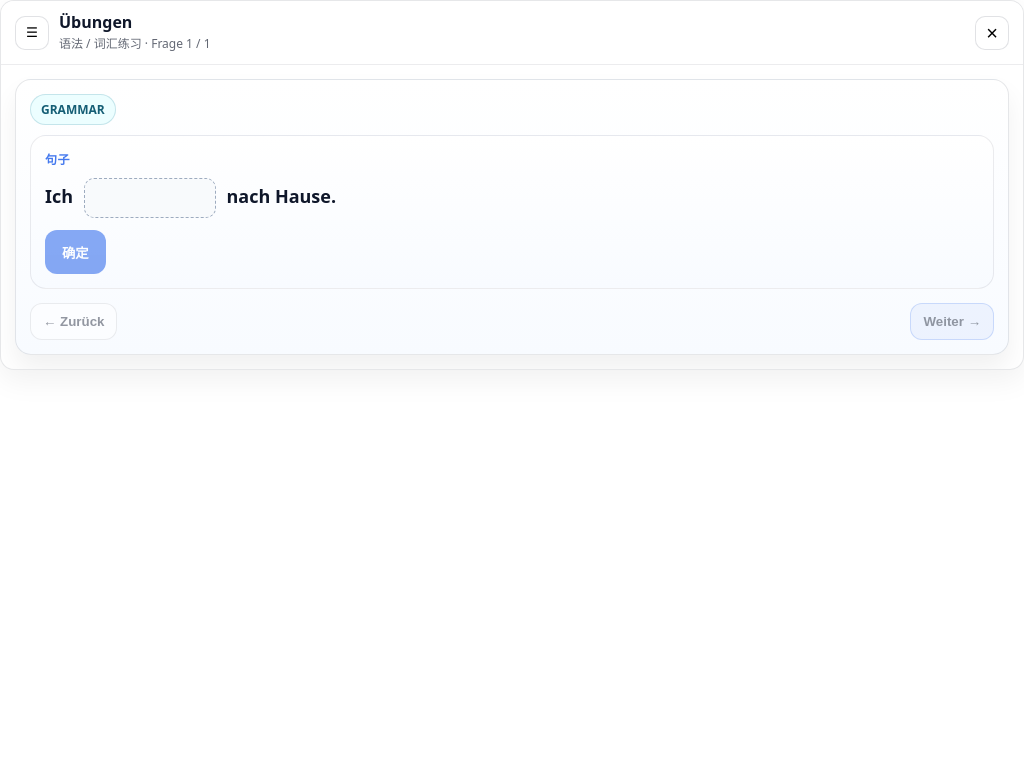
Test: ExercisePanel dictionary regions › keeps the correct answer and explanation unavailable until confirmation
The width and height of the screenshot is (1024, 768).
Expected: the text "Ich" is shown, [45,184,78,208]
Click the button with class "exPanelGrammarBlank": x=150, y=198 [84,178,216,218]
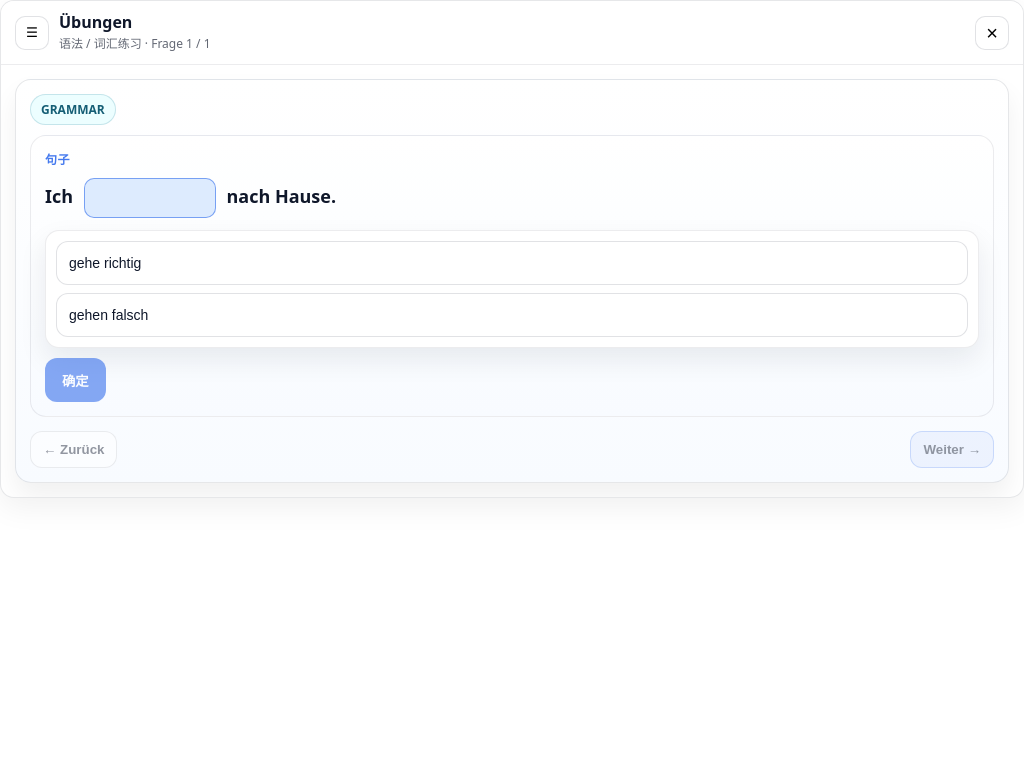
Click the list item "gehen falsch": x=109, y=315 [56,293,968,337]
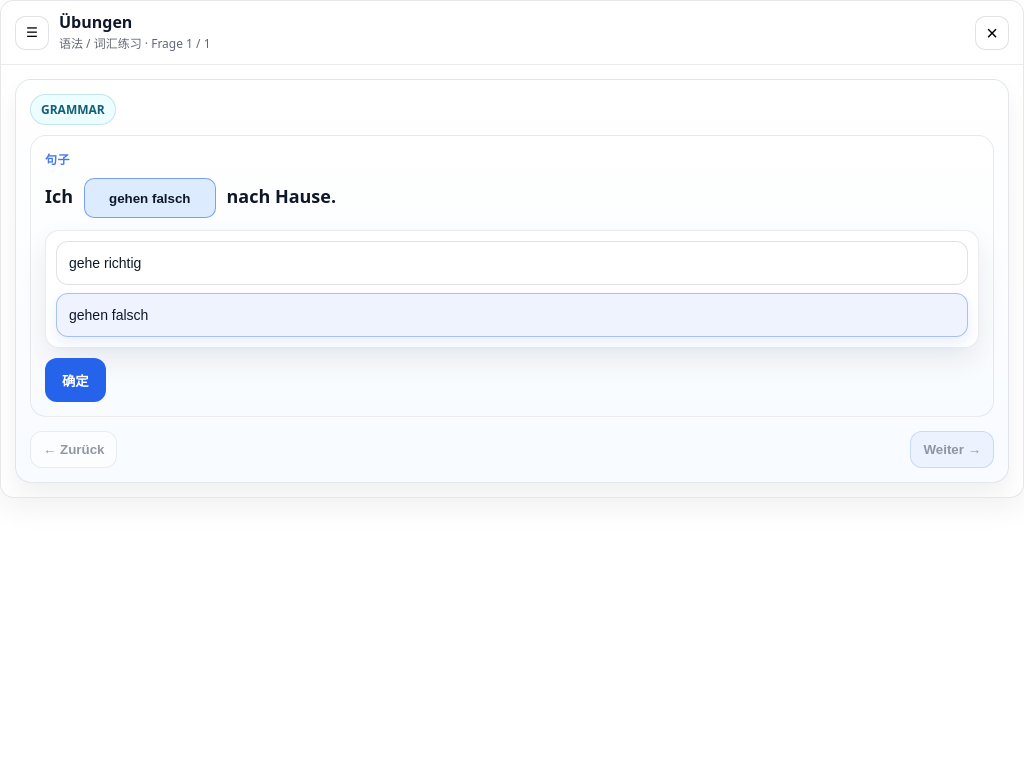
Click the button "确定": x=75, y=380 [45,358,106,402]
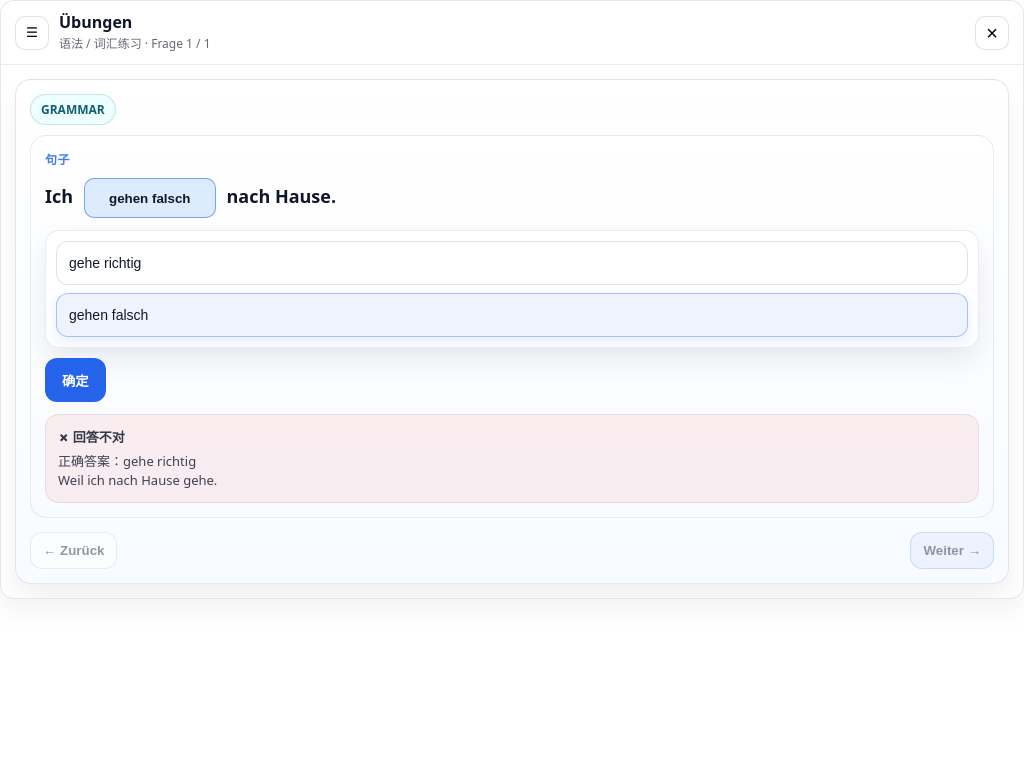
Expected: the text "gehe richtig" is shown, [123,452,196,470]
Expected: the element showing "Weil ich nach Hause gehe." is shown, [58,471,217,489]
